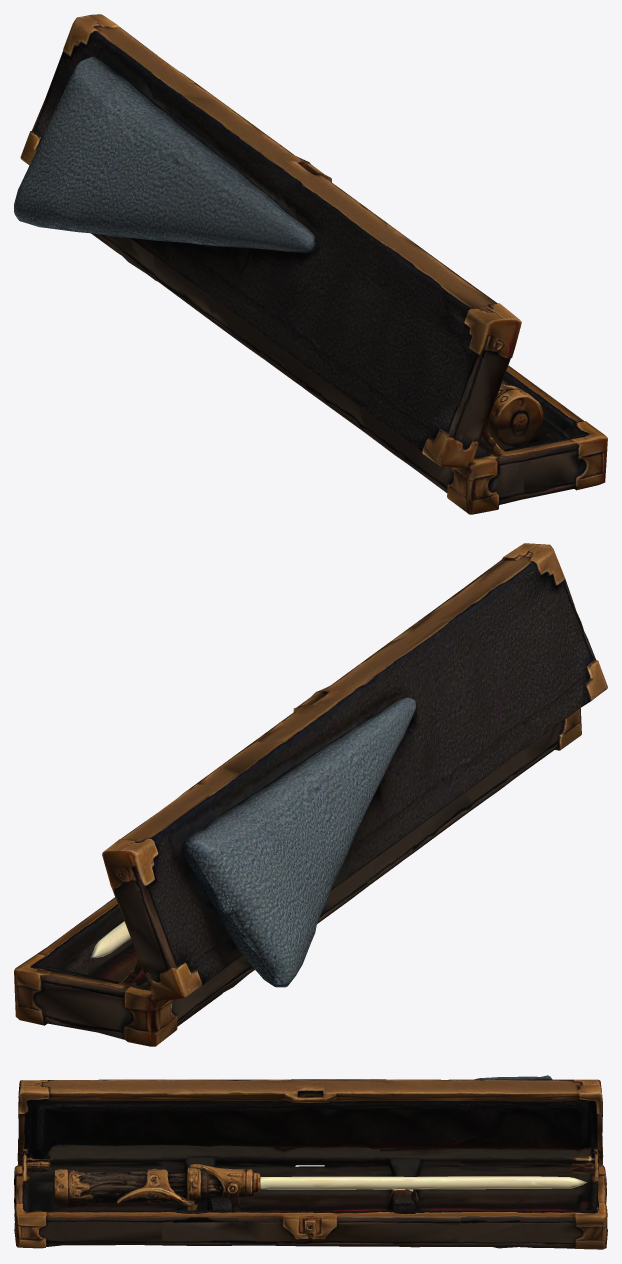
File: sovereign-arc-duellist.glb
3 renders of one model, top to bottom at view 1: azimuth 30°, elevation 25°; view 2: azimuth 150°, elevation 25°; view 3: azimuth 270°, elevation 25°, orthographic. The views are drawn at different scales.
Visible parts, largest first — view 1: tripo_node_dcf5f465-55ba-40ab-ba84-b66f565b6ced; view 2: tripo_node_dcf5f465-55ba-40ab-ba84-b66f565b6ced; view 3: tripo_node_dcf5f465-55ba-40ab-ba84-b66f565b6ced.
Boxes of the visible parts, bbox=[...] form: tripo_node_dcf5f465-55ba-40ab-ba84-b66f565b6ced: bbox=[14, 14, 607, 514]; tripo_node_dcf5f465-55ba-40ab-ba84-b66f565b6ced: bbox=[14, 543, 607, 1046]; tripo_node_dcf5f465-55ba-40ab-ba84-b66f565b6ced: bbox=[14, 1075, 607, 1249].
Size of the model in its own units: 0.302 by 0.2423 by 0.9798.
1 material, 1 textured.
